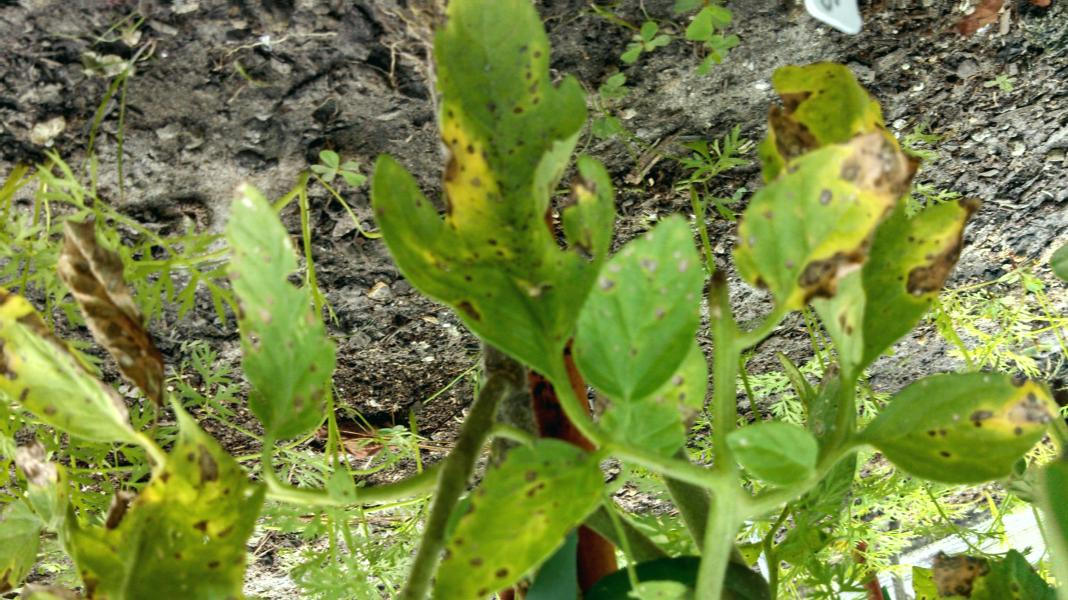Tomato Septoria leaf spot: (365, 0, 637, 380), (193, 142, 354, 485), (823, 171, 1011, 382), (721, 127, 893, 357), (418, 424, 613, 600), (566, 204, 718, 418), (869, 367, 1066, 497)
